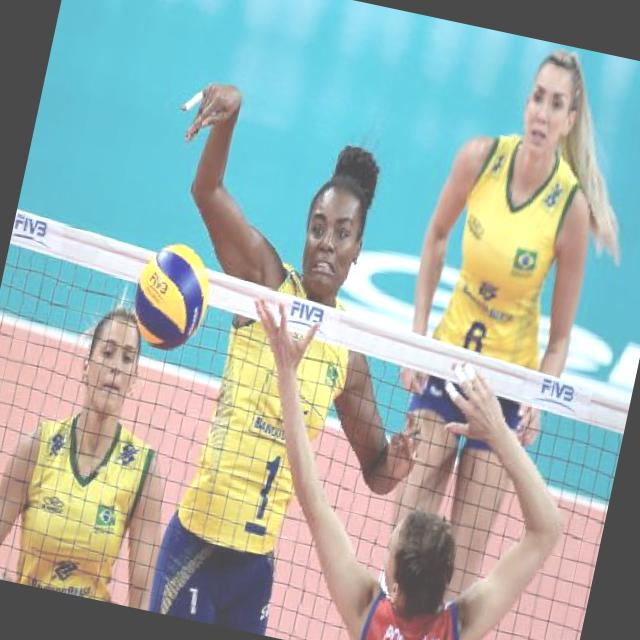Person: (85, 48, 432, 640), (366, 26, 614, 560), (0, 264, 200, 605)
